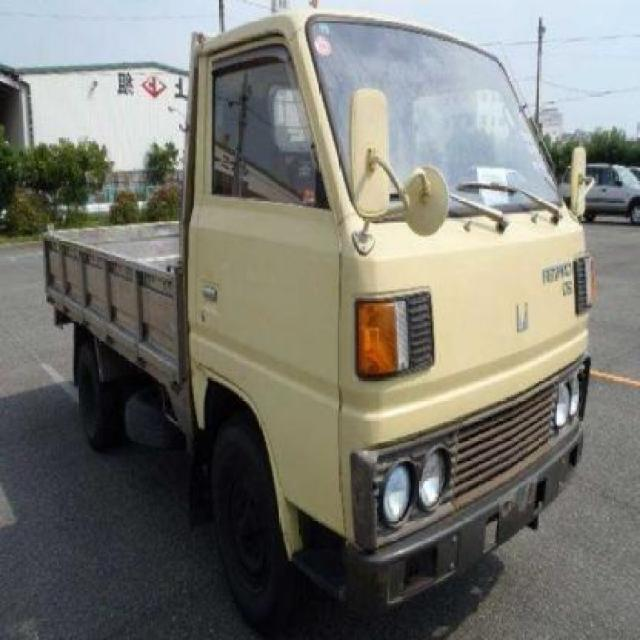truck: (39, 6, 599, 618)
